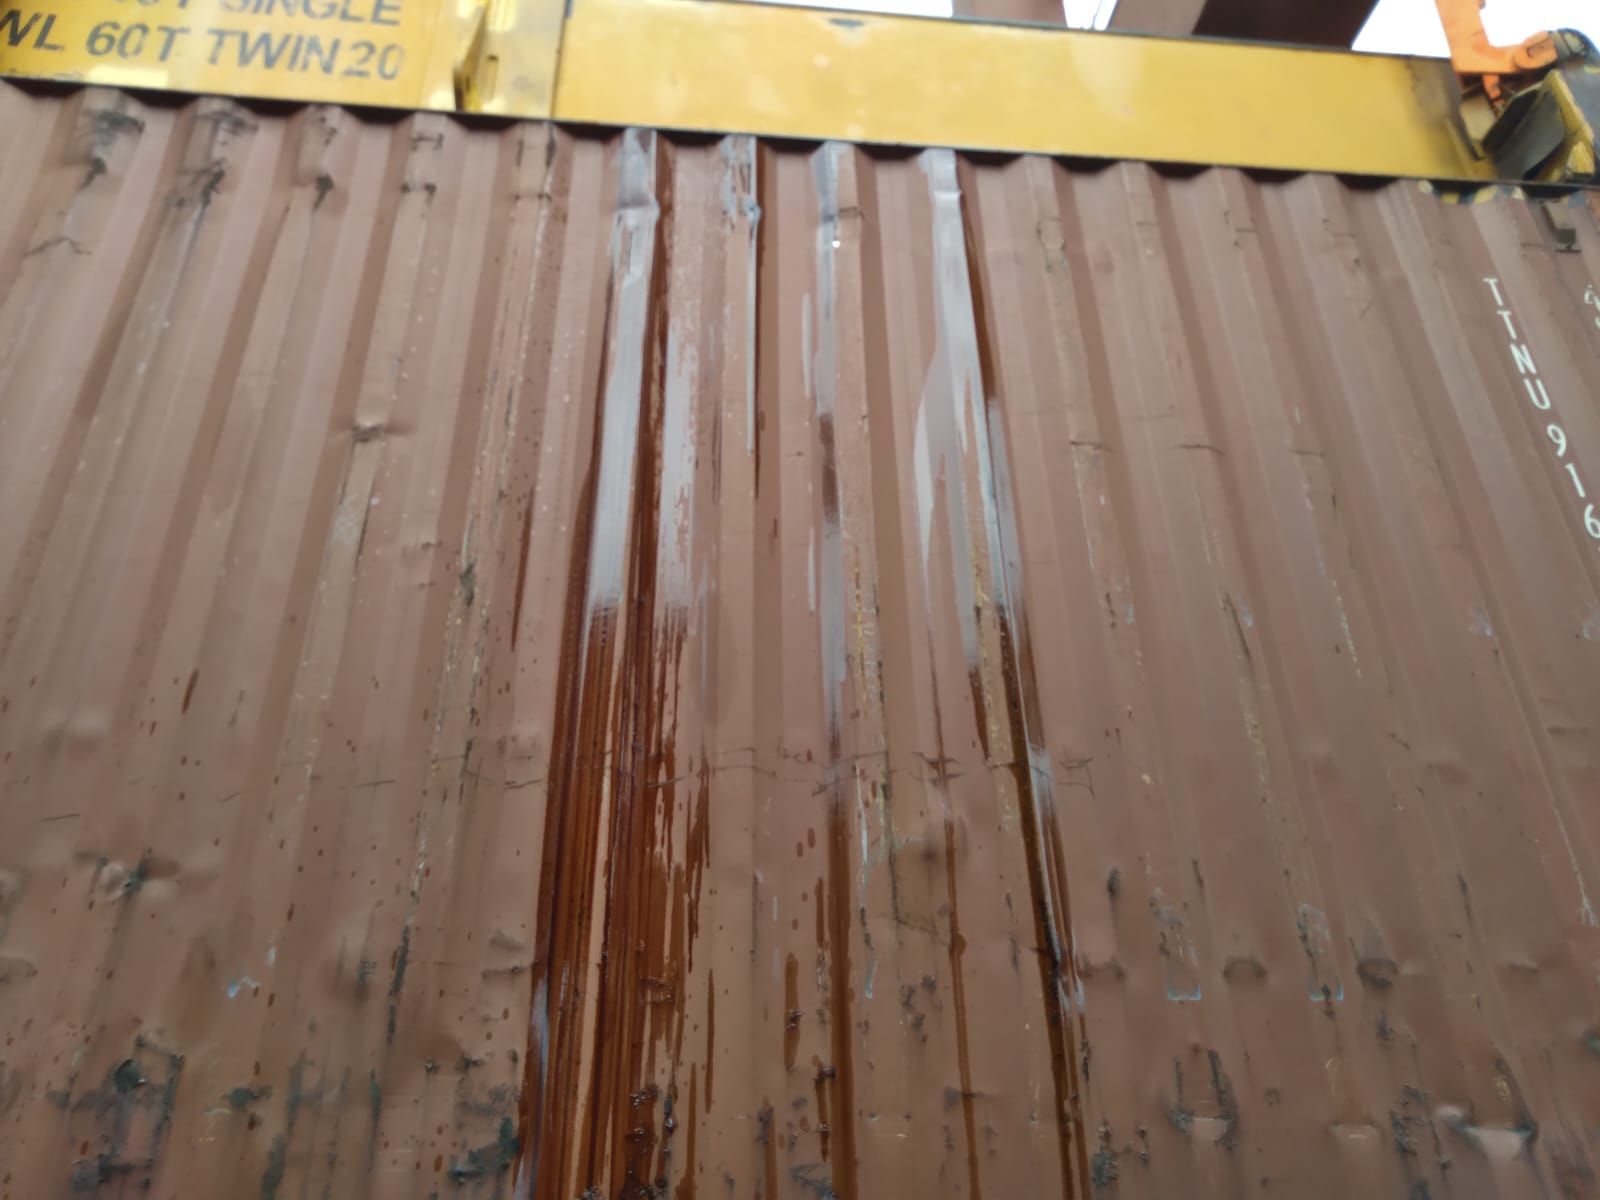bulged: (306, 919, 538, 1105), (864, 779, 1033, 914), (16, 827, 232, 921), (37, 708, 130, 795)
dented: (1225, 929, 1587, 1025), (1330, 1066, 1585, 1200), (1140, 1035, 1272, 1163)
